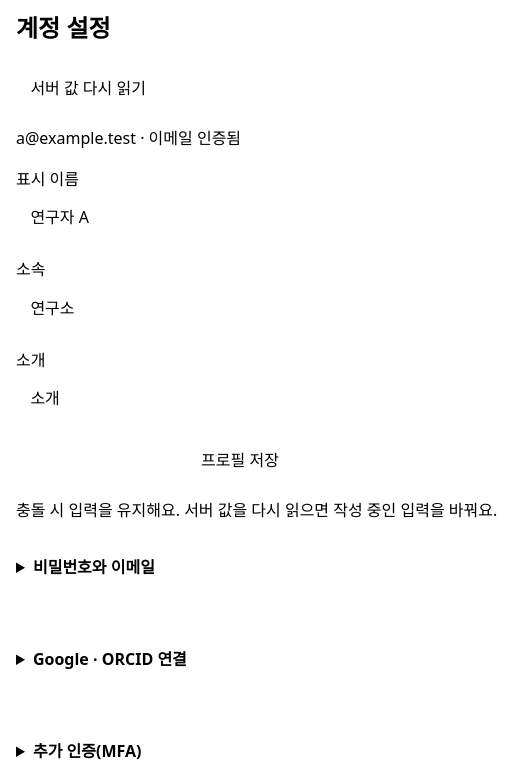
Scenario: U2 account flows › keeps entered profile values through a stale revision failure
Replace the text in the field labelled "표시 이름" with "수정한 이름" at (240, 218), box [16,196,464,240]
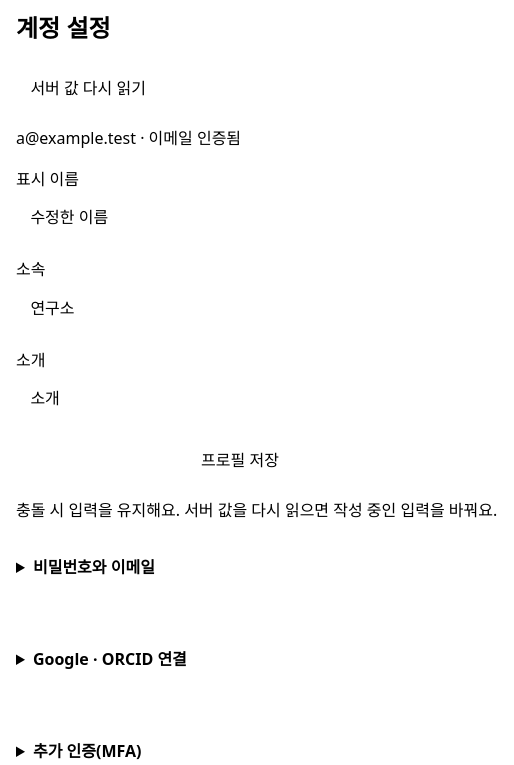
Click the button "프로필 저장".
click(240, 460)  # box [16,438,464,482]
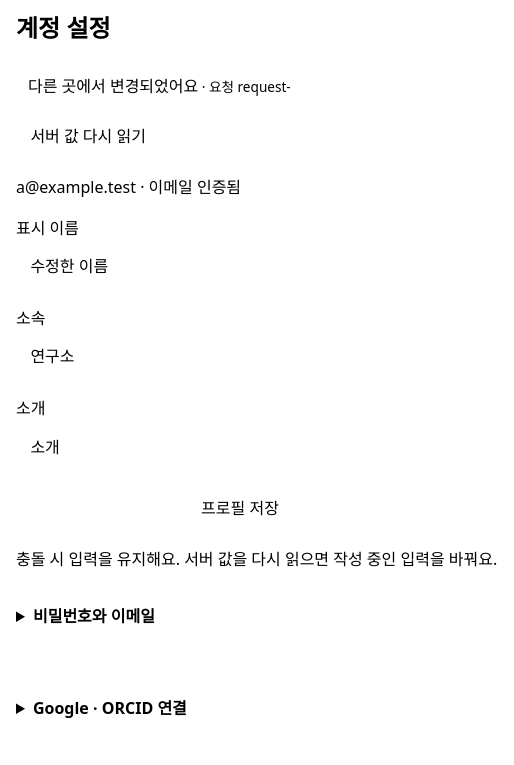
Expected: the text "다른 곳에서 변경되었어요" is shown, [28,75,198,97]
